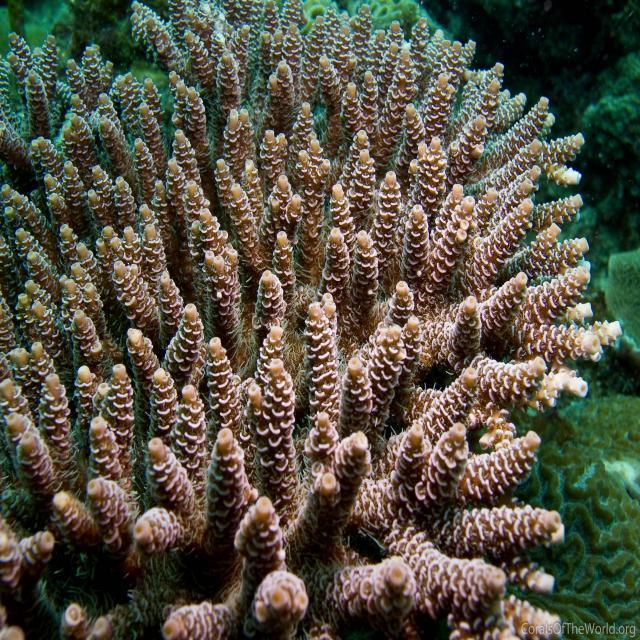Healthy: (6, 1, 612, 640)
